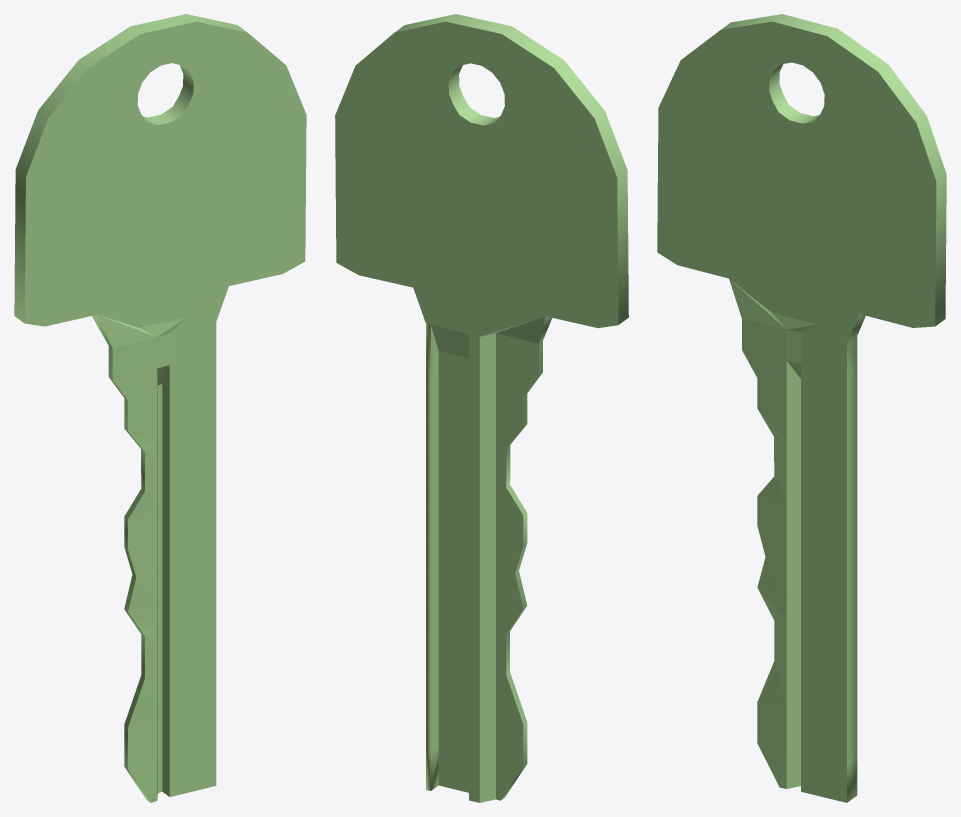
File: Keys_21.FBX
The picture shows the model from 3 angles, left to right: view 1: azimuth 30°, elevation 25°; view 2: azimuth 150°, elevation 25°; view 3: azimuth 330°, elevation 25°; orthographic projection.
Parts seen in each view (by area): view 1: Keys_21; view 2: Keys_21; view 3: Keys_21.
Boxes of the visible parts, <box> form: Keys_21: <box>14,14,306,802</box>; Keys_21: <box>335,14,628,802</box>; Keys_21: <box>657,14,946,802</box>.
Size of the model in its own units: 0.8095 by 2.11 by 0.0571.
